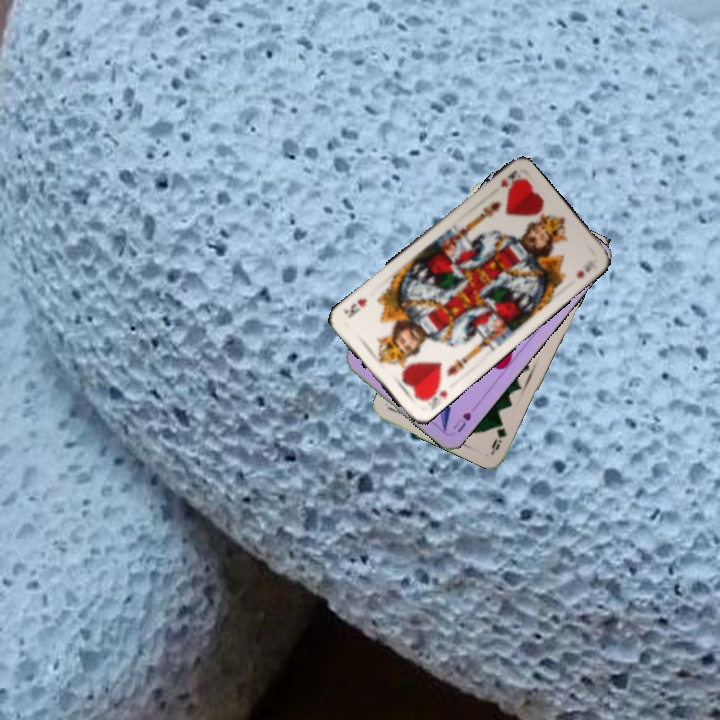G9: (488, 424, 510, 454)
HK: (418, 382, 450, 406), (496, 166, 519, 190)
HU: (449, 408, 474, 435)
